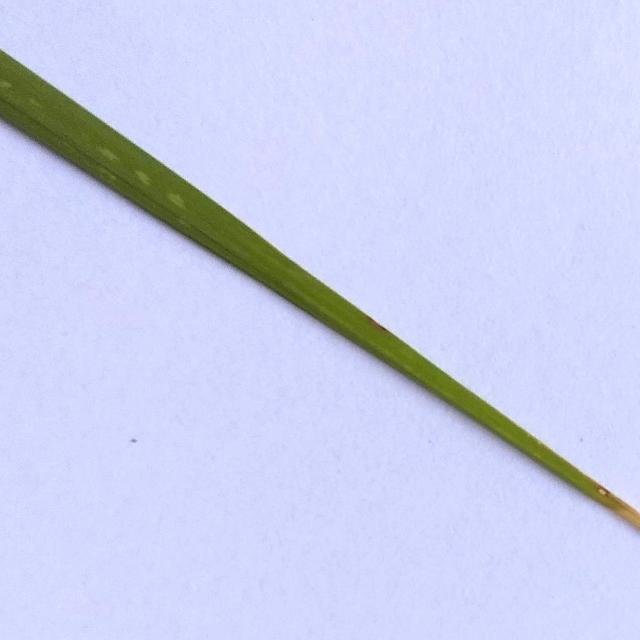Blast: (590, 484, 614, 504)
